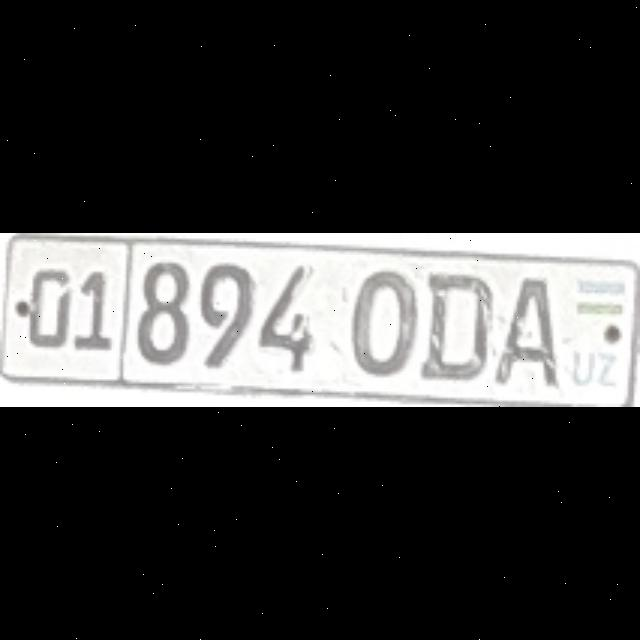0: (24, 263, 66, 341)
1: (70, 266, 108, 344)
4: (255, 260, 309, 366)
8: (132, 257, 186, 359)
9: (195, 258, 249, 362)
A: (492, 276, 556, 380)
D: (418, 269, 487, 377)
O: (346, 266, 412, 372)
